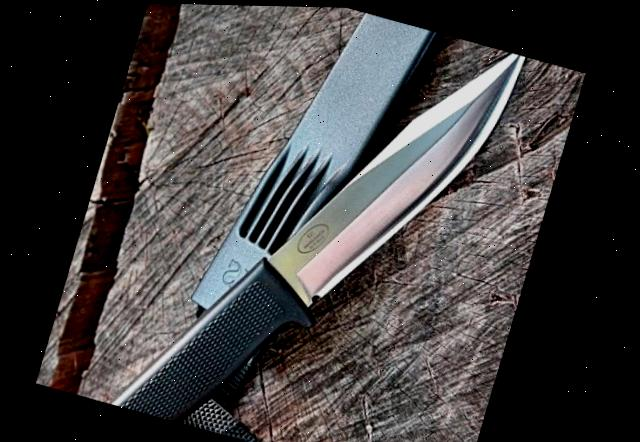pocket-knife: (63, 1, 530, 442)
